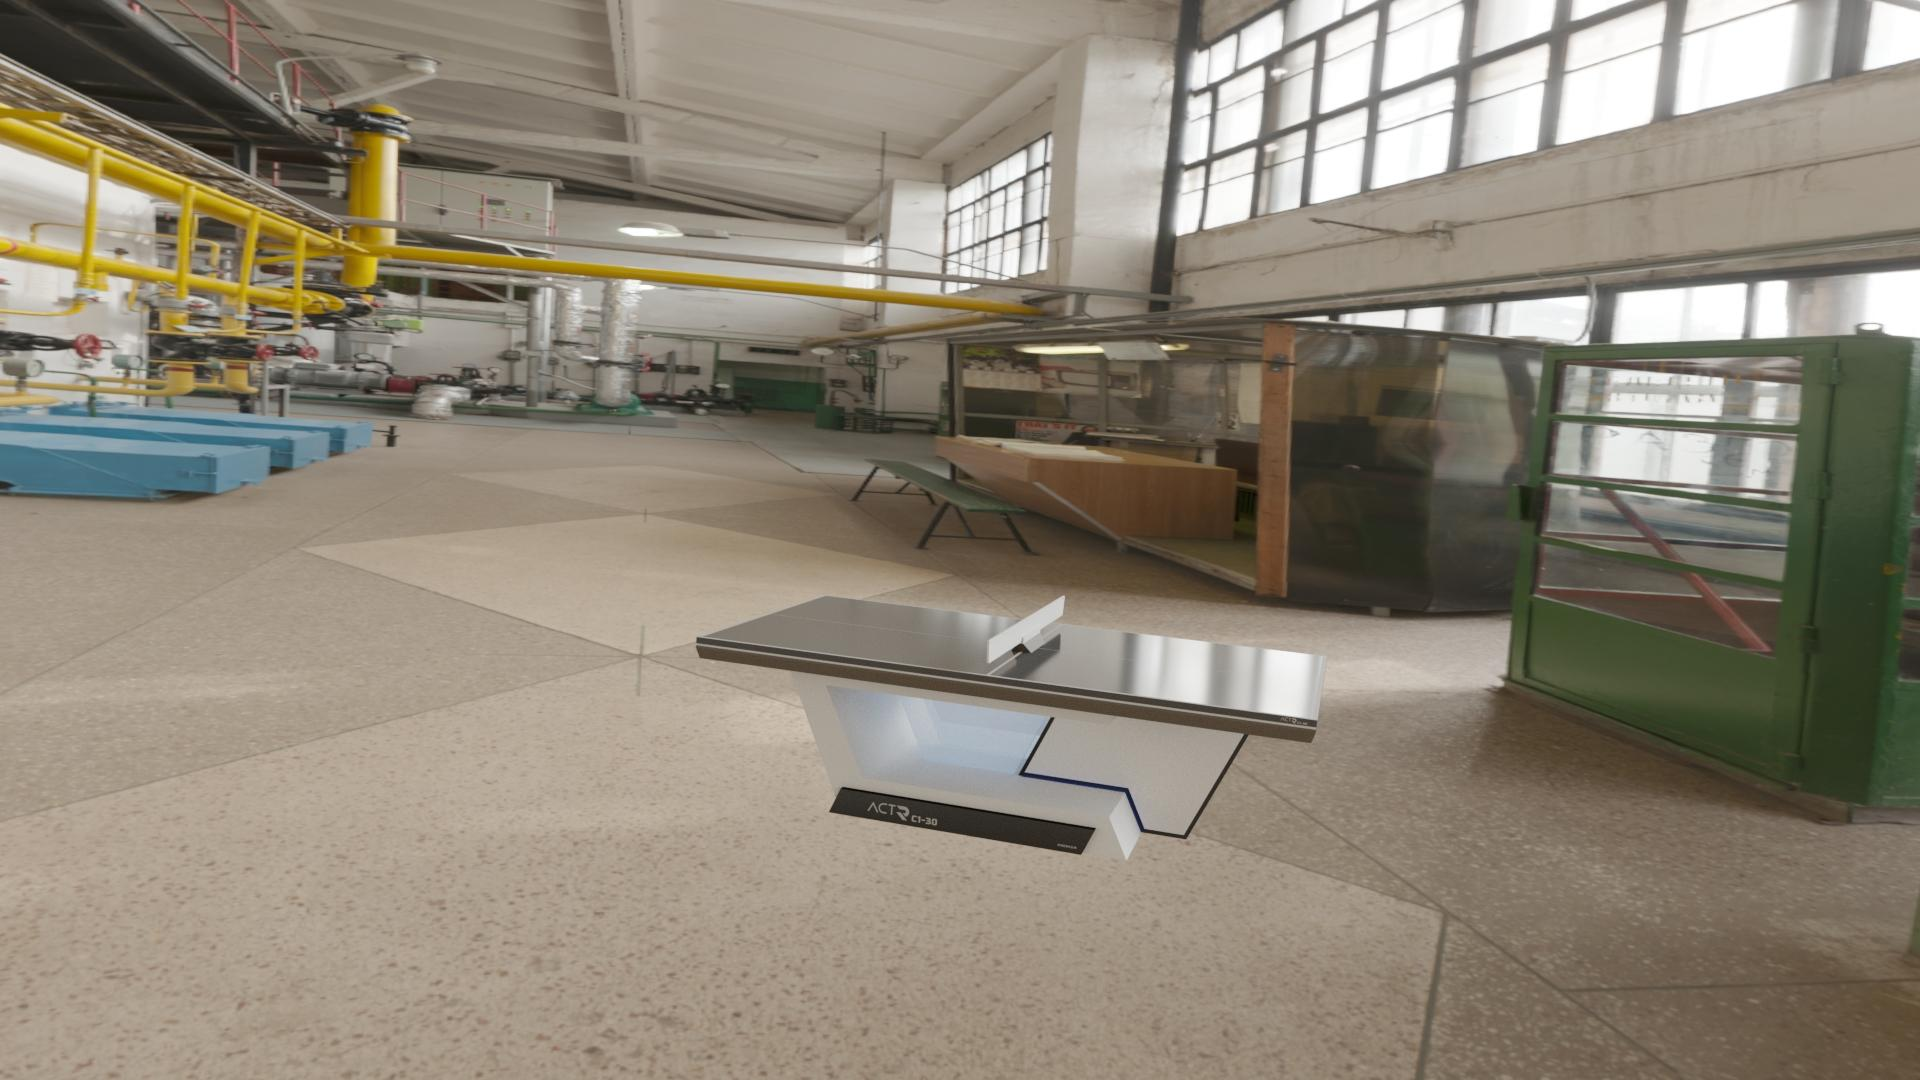table: (703, 596, 1323, 719)
